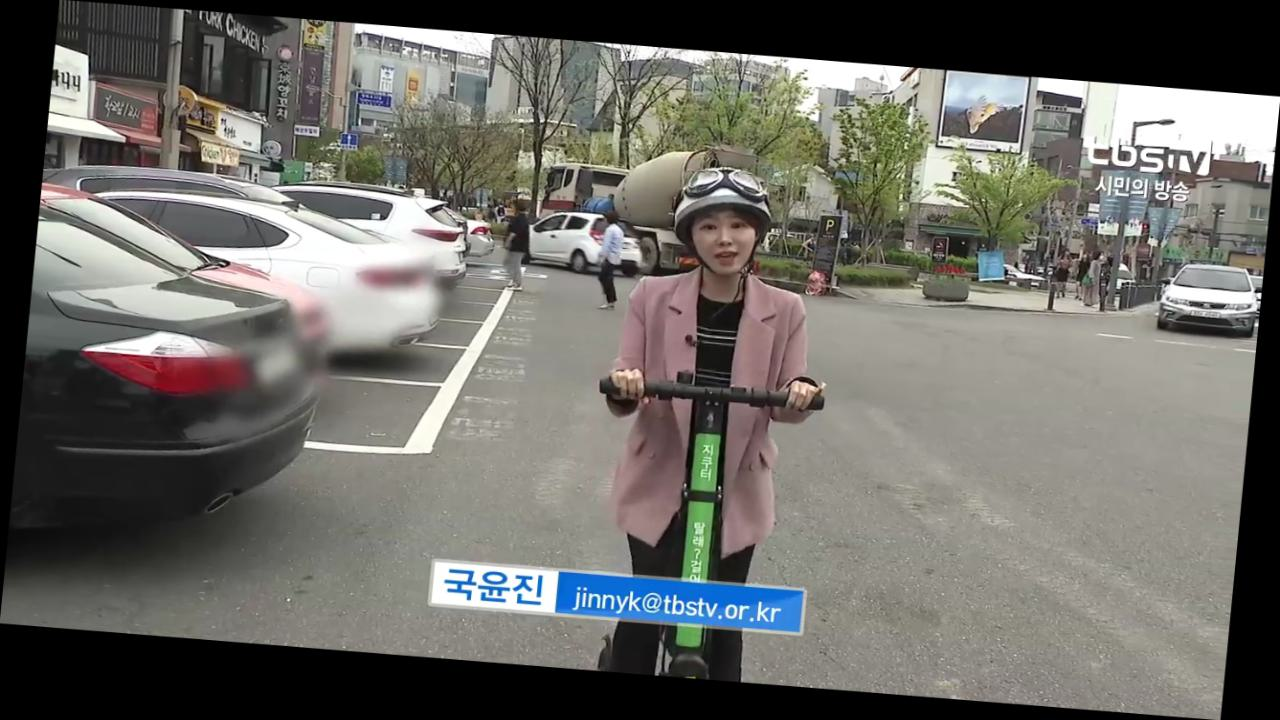helmet: (568, 160, 849, 687)
